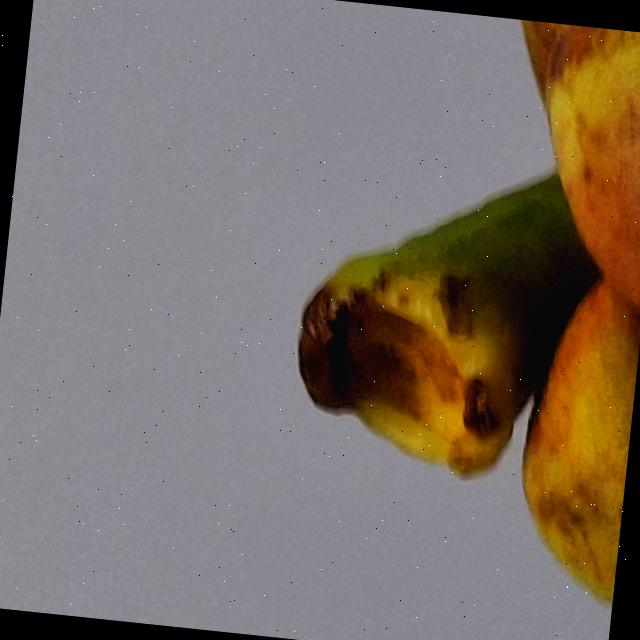mangosteen: (217, 0, 640, 640)
